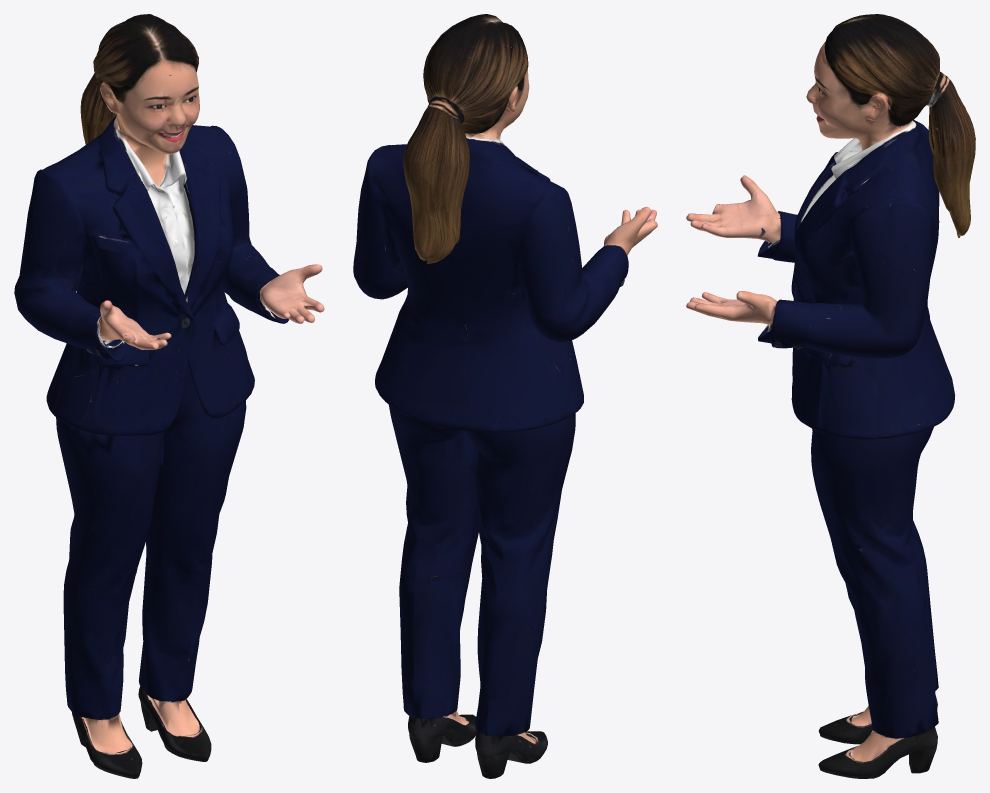
File: speaker-female.glb
3 views of the same model, side by side, from view 1: azimuth 30°, elevation 25°; view 2: azimuth 150°, elevation 25°; view 3: azimuth 270°, elevation 25° (orthographic).
Bounding box in the file's own units: 0.6293 × 1.9 × 0.6788.
1 material, 1 textured.
